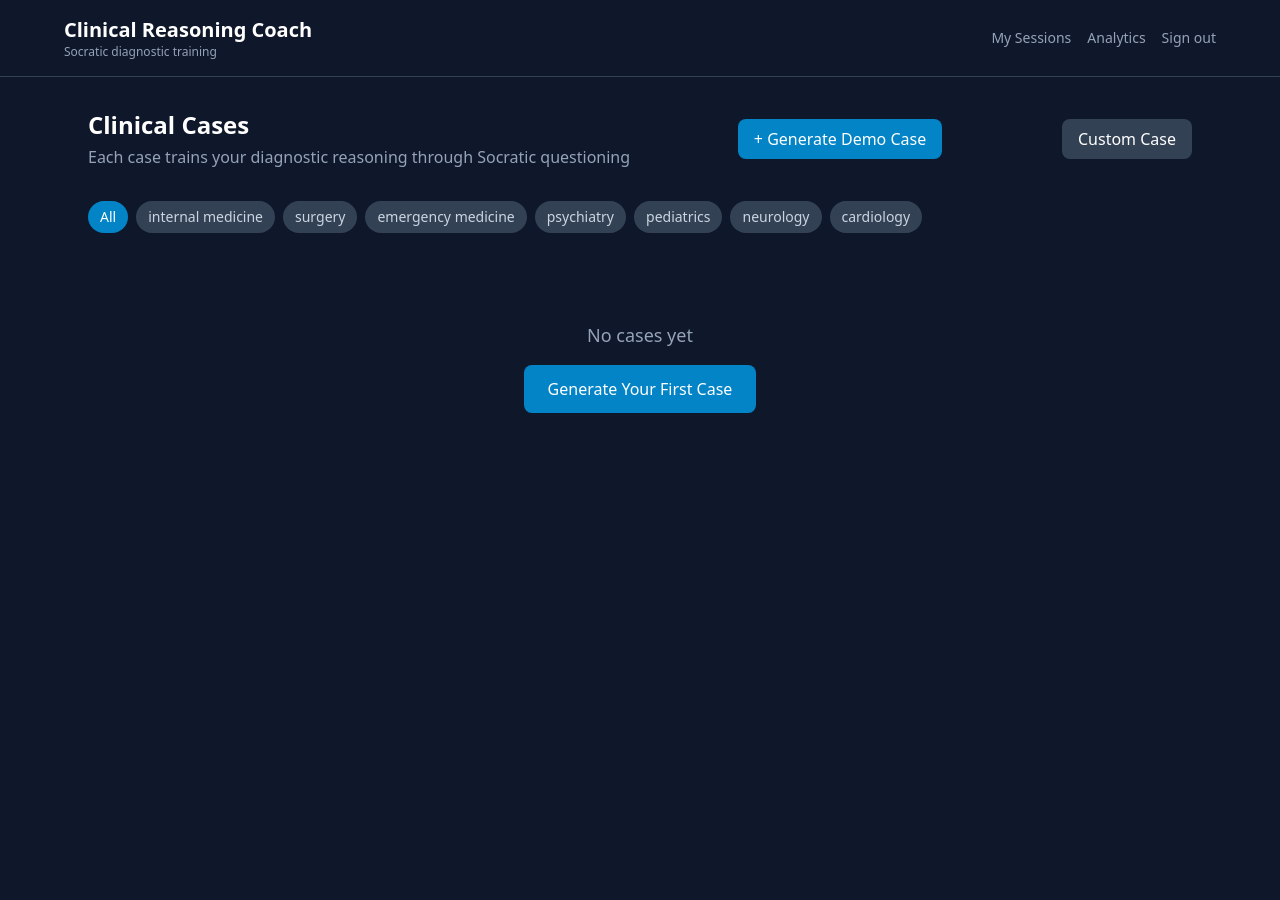
Test: CasesPage › shows structured PHI feedback when custom generation seed is blocked
Click the button "Custom Case". click: click(1127, 139)
box: [1062,119,1192,159]
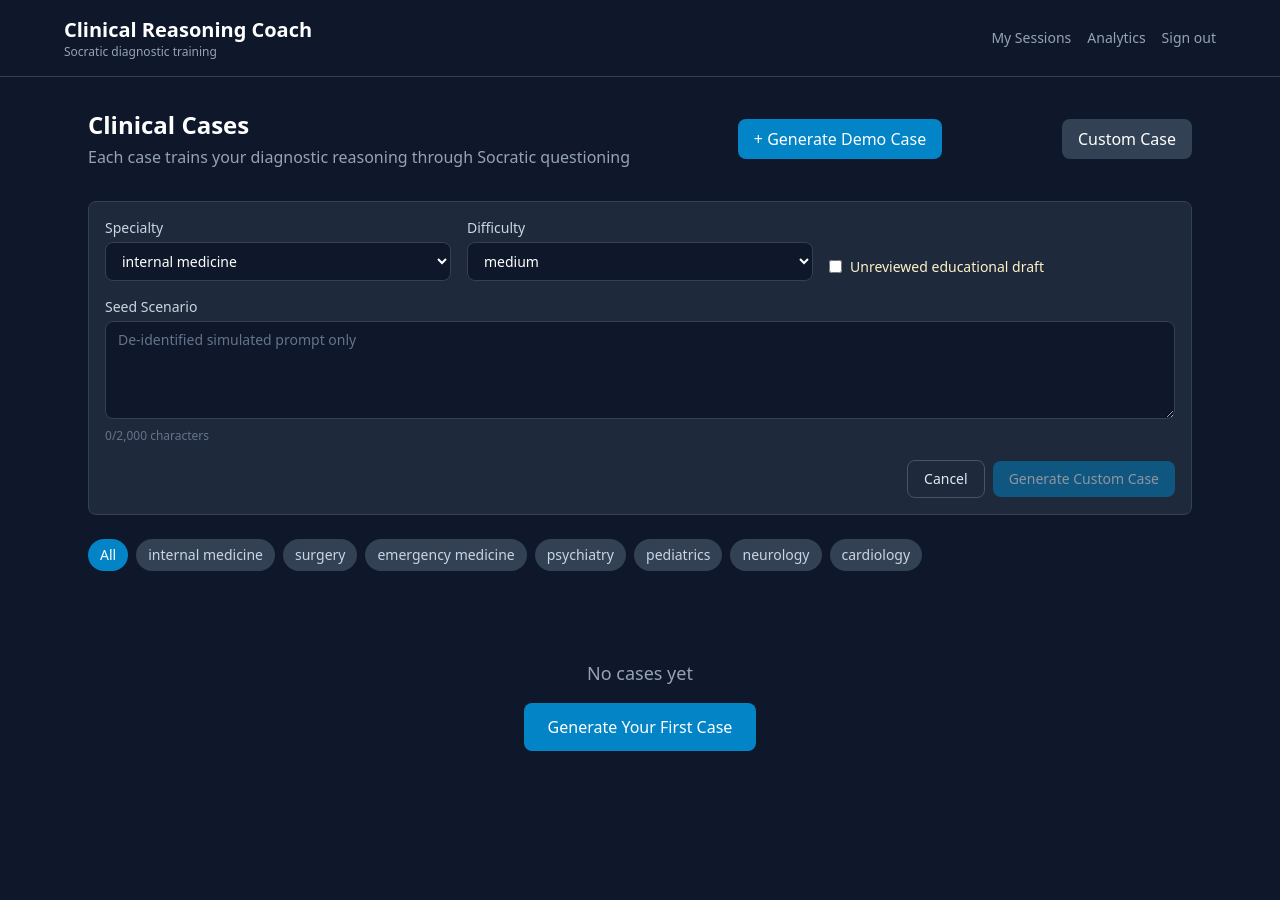
Type "Patient name is John Smith, DOB 01/02/1970, MRN A123456." into the text box labelled "Seed Scenario". click: (640, 370)
box: [105,321,1175,419]
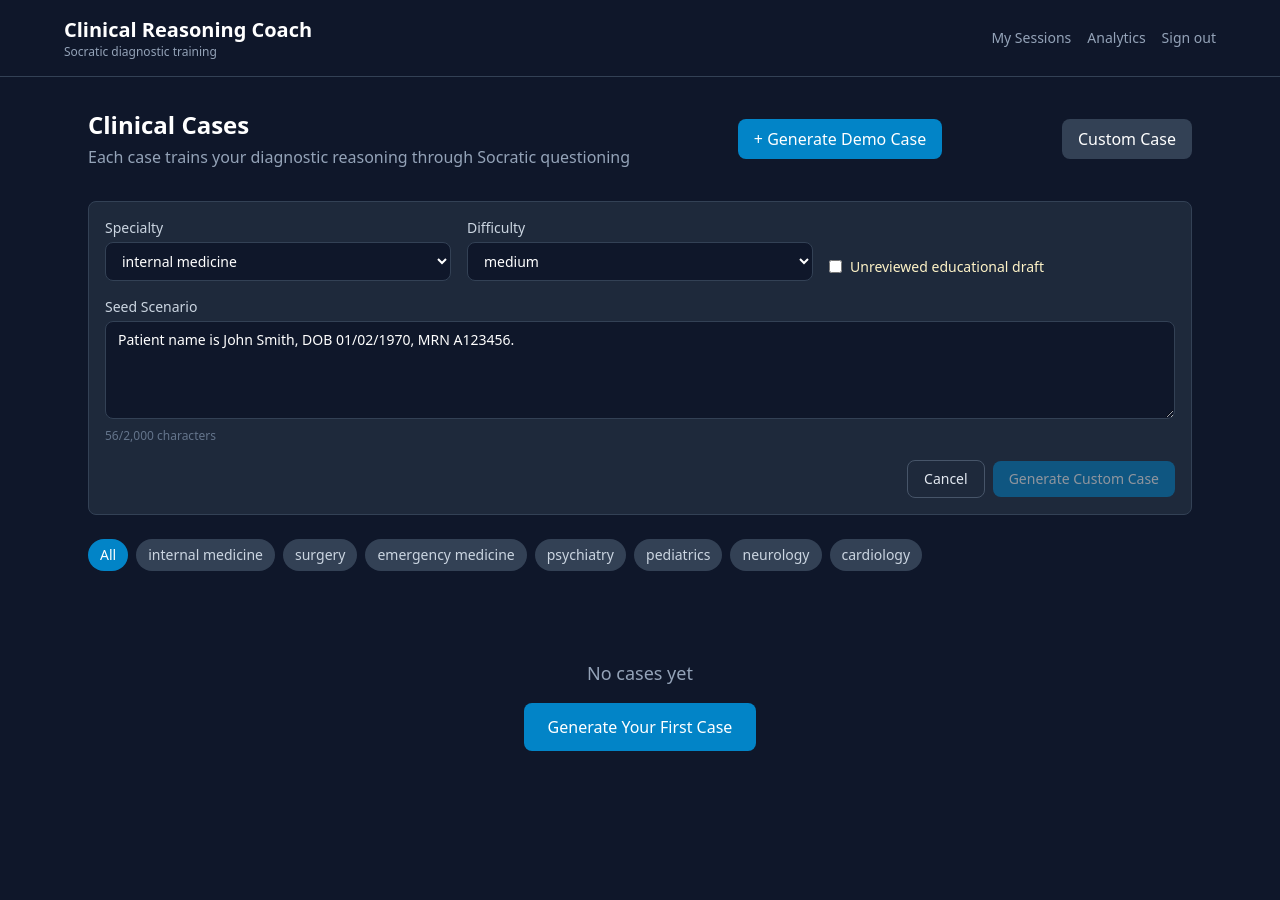
Click the checkbox labelled "Unreviewed educational draft". click: click(836, 266)
box: [829,260,842,273]
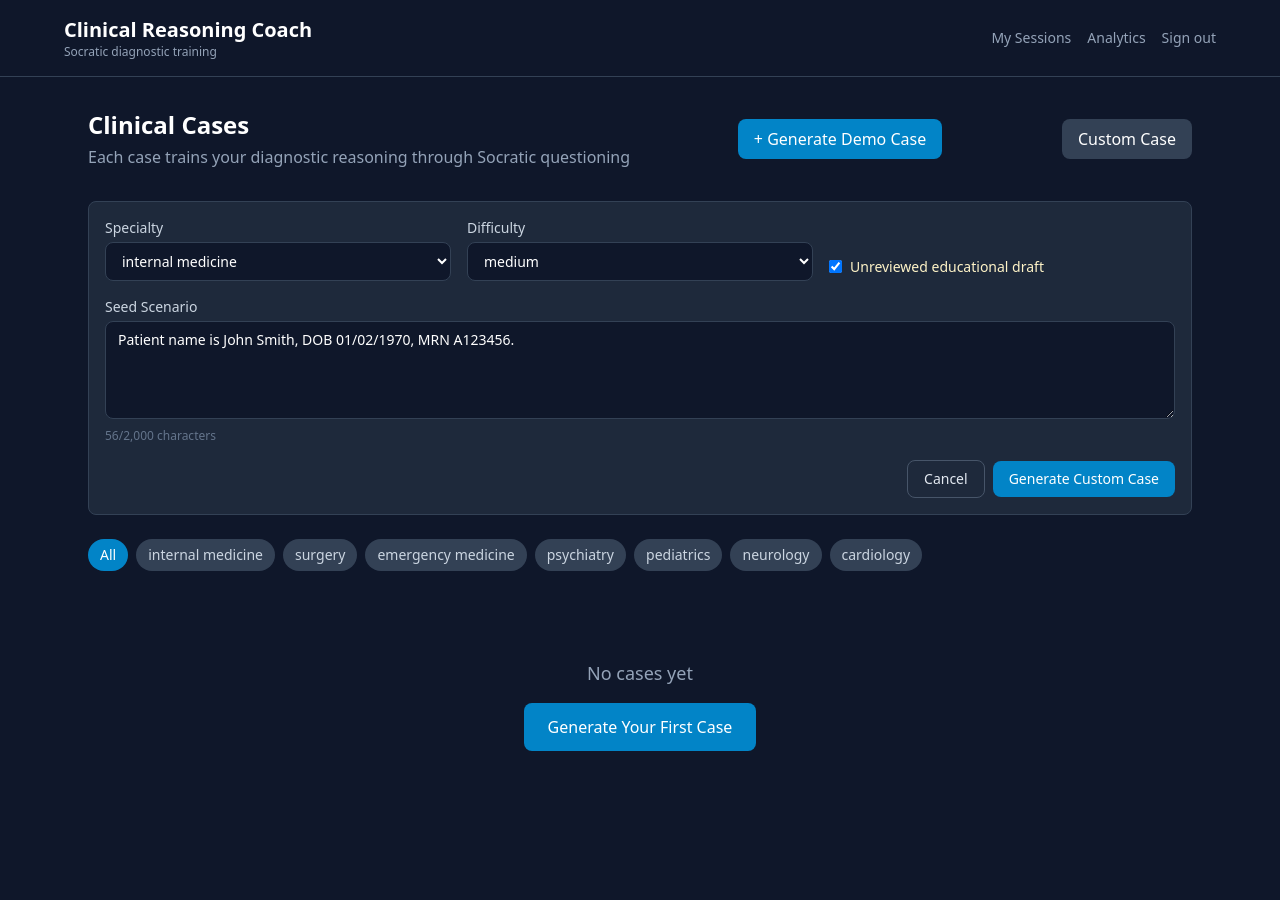
Click the button "Generate Custom Case". click: click(1084, 479)
box: [993,461,1175,497]
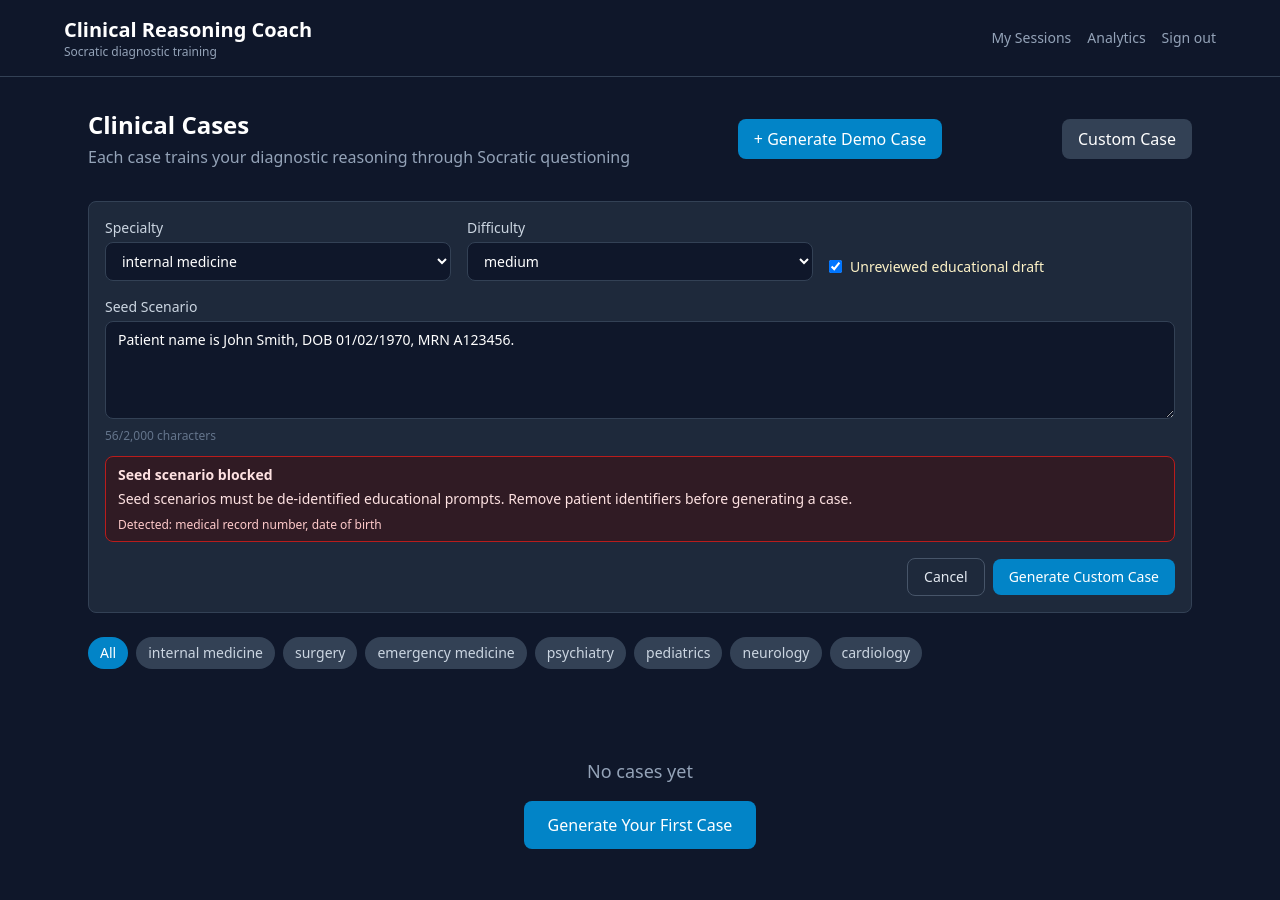
Check: the text "Seed scenario blocked" is shown, box [118,465,273,484]
Check: the text "Remove patient identifiers" is shown, box [118,489,852,508]
Check: the text "Detected: medical record number, date of birth" is shown, box [118,516,382,533]
